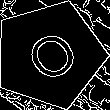O_SE: (16, 22, 83, 88)
